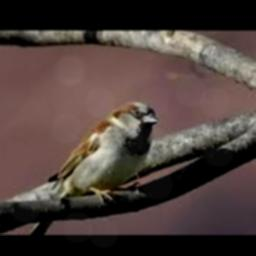Sparrow: (29, 102, 158, 235)
